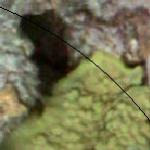alive: (16, 24, 148, 143)
